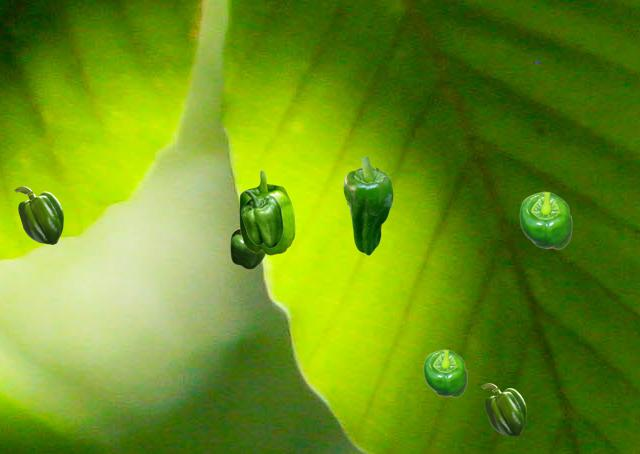bell_pepper: (343, 157, 392, 254), (239, 170, 294, 254), (519, 191, 571, 248), (14, 186, 62, 243), (241, 190, 282, 247), (481, 383, 525, 435), (423, 349, 466, 396), (230, 228, 265, 268)
